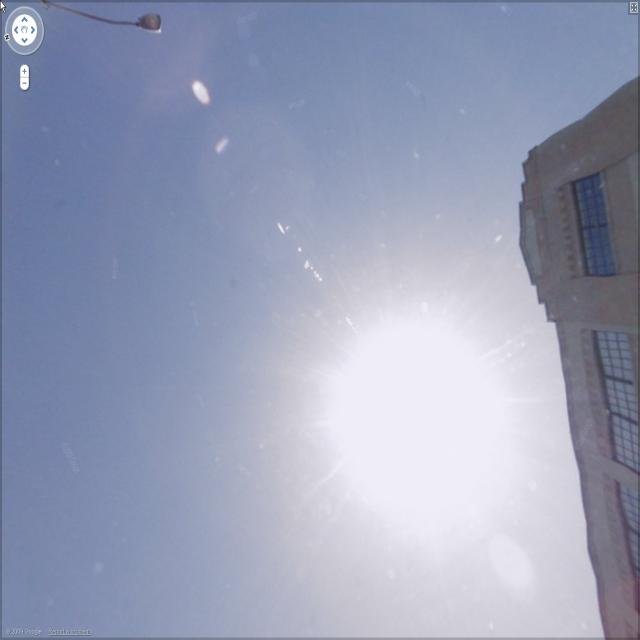b_1: (522, 76, 640, 626)
